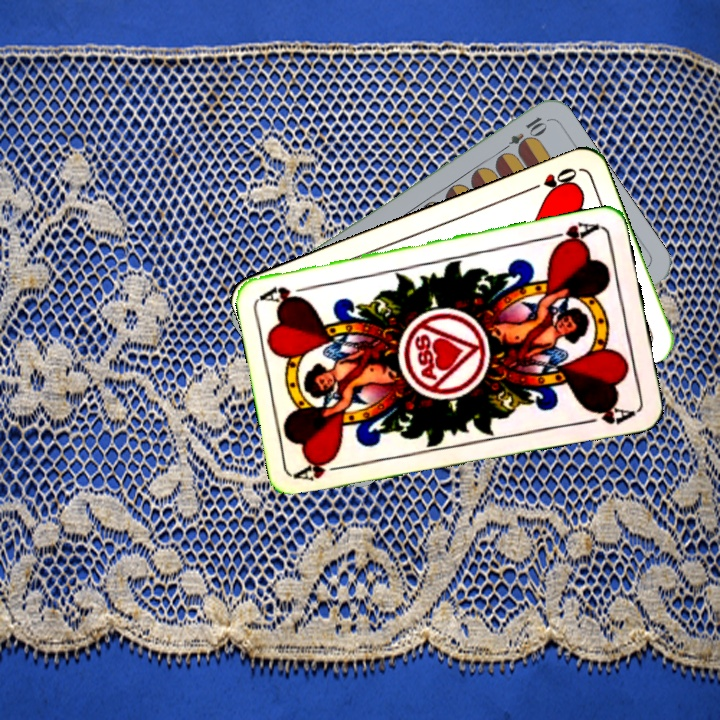E10: (496, 112, 549, 157)
HA: (544, 218, 602, 250), (293, 453, 352, 484)
HO: (524, 163, 580, 197)
